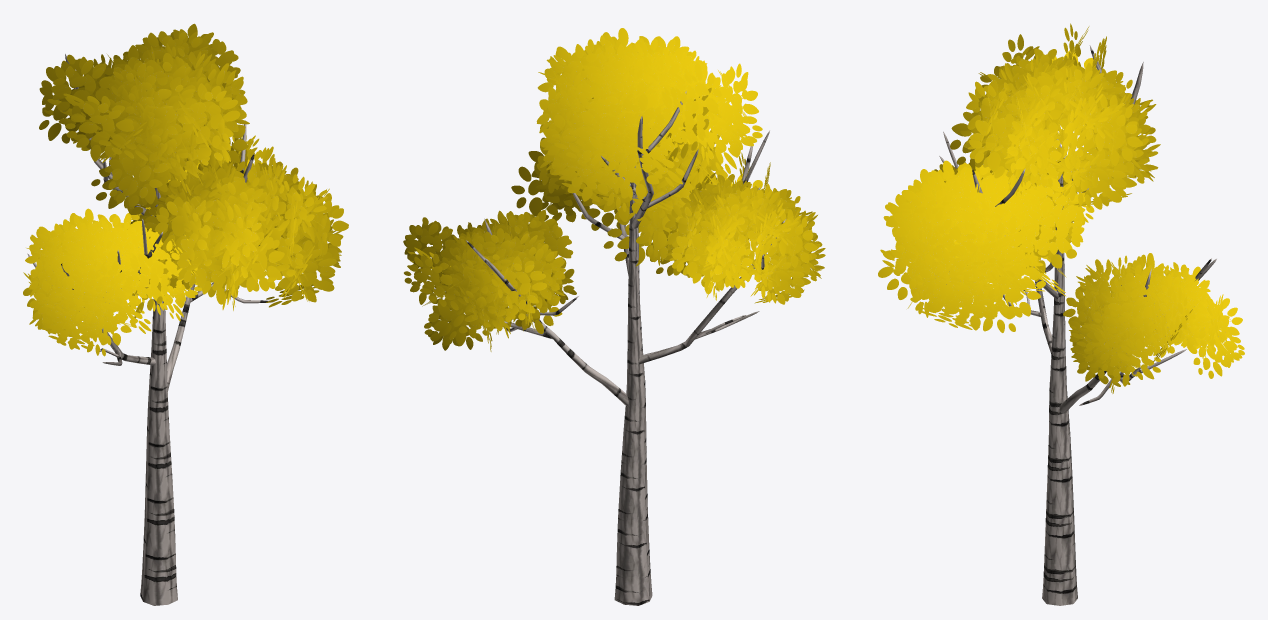
Rendered from q_birch_5.glb.
The picture shows the model from 3 angles, left to right: view 1: azimuth 30°, elevation 25°; view 2: azimuth 150°, elevation 25°; view 3: azimuth 270°, elevation 25°; orthographic projection. The views are drawn at different scales.
Parts seen in each view (by area): view 1: BirchTree_5; view 2: BirchTree_5; view 3: BirchTree_5.
Boxes of the visible parts, x1,y1,x2,y2 form: BirchTree_5: (23,23,348,605); BirchTree_5: (403,28,825,605); BirchTree_5: (878,23,1244,605).
Bounding box in the file's own units: 6.16 × 9.5 × 6.05.
2 materials, 2 textured.
